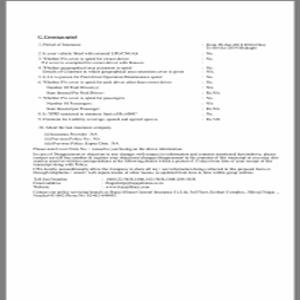text: (33, 34, 281, 197)
